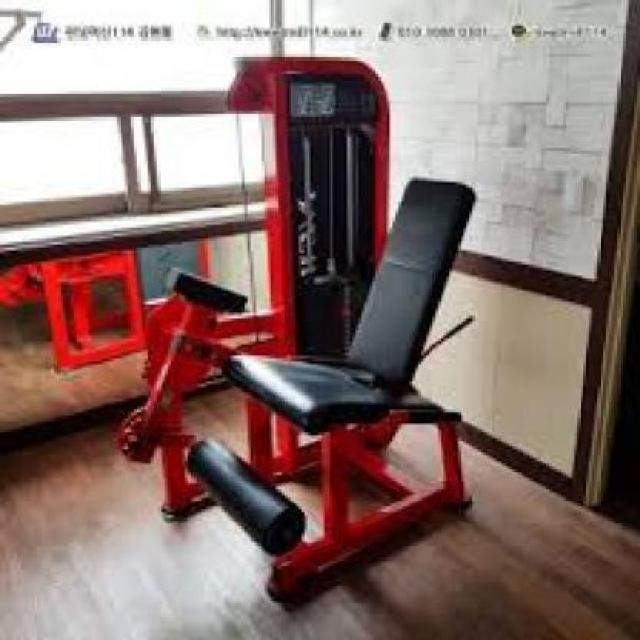leg extension: (99, 44, 506, 622)
